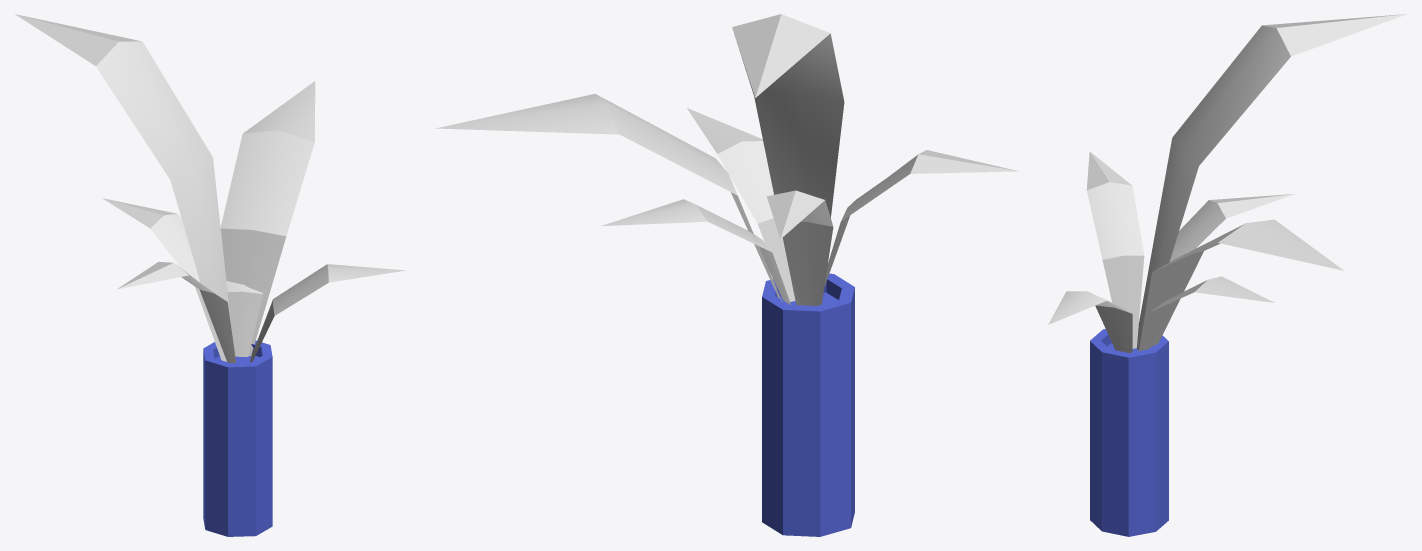
Rendered from model_vase_floor_01.fbx.
3 renders of one model, left to right at view 1: azimuth 30°, elevation 25°; view 2: azimuth 150°, elevation 25°; view 3: azimuth 270°, elevation 25°, orthographic. The views are drawn at different scales.
Parts seen in each view (by area): view 1: Plane.016; view 2: Plane.016; view 3: Plane.016.
Part boxes in pixels (x1,y1,x2,y2): Plane.016: (15,14,405,536); Plane.016: (435,14,1018,536); Plane.016: (1048,14,1406,536).
Size of the model in its own units: 184 by 243 by 170.
